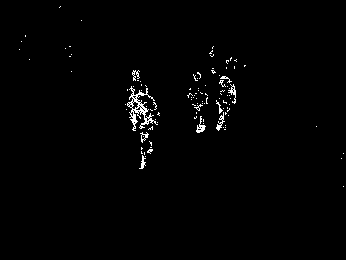person: (126, 83, 159, 173), (188, 69, 208, 136), (214, 73, 237, 130)
